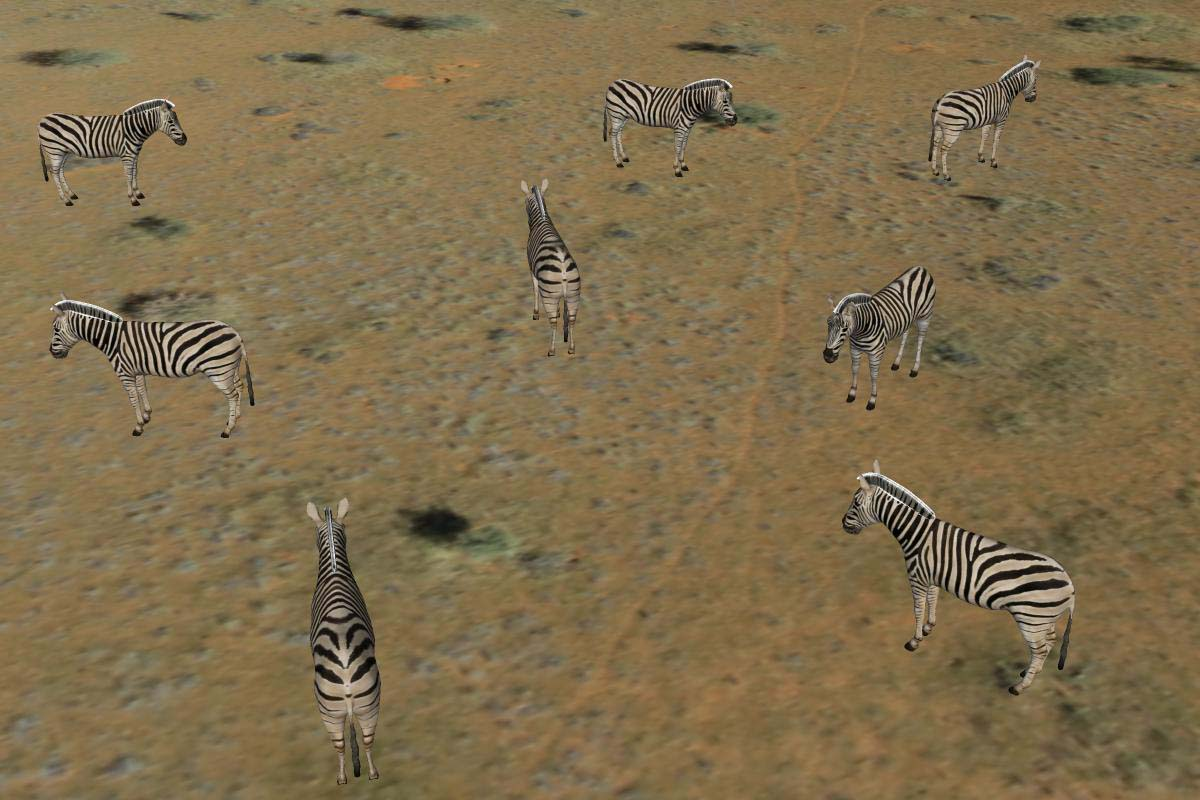zebra: (832, 452, 1082, 712), (44, 287, 259, 450), (294, 477, 394, 800), (813, 250, 952, 419), (34, 90, 194, 213), (502, 171, 592, 362), (600, 62, 736, 185), (915, 58, 1046, 181)
